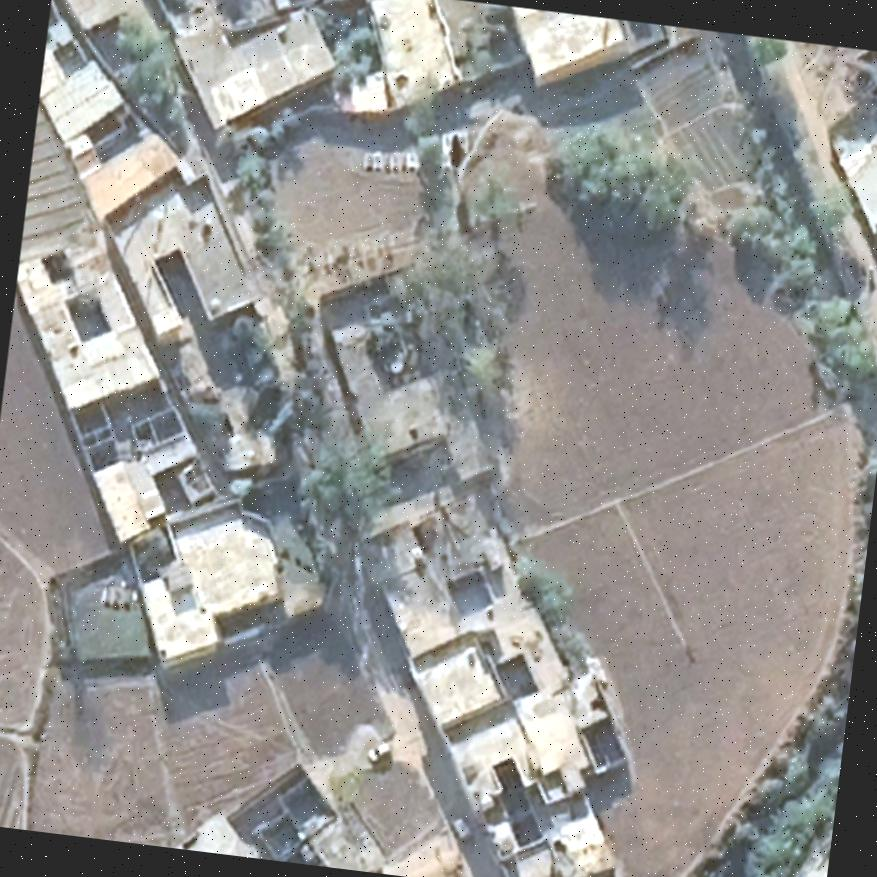Solarpanel: (176, 460, 216, 502)
